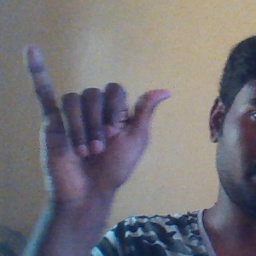J: (19, 43, 175, 189)
